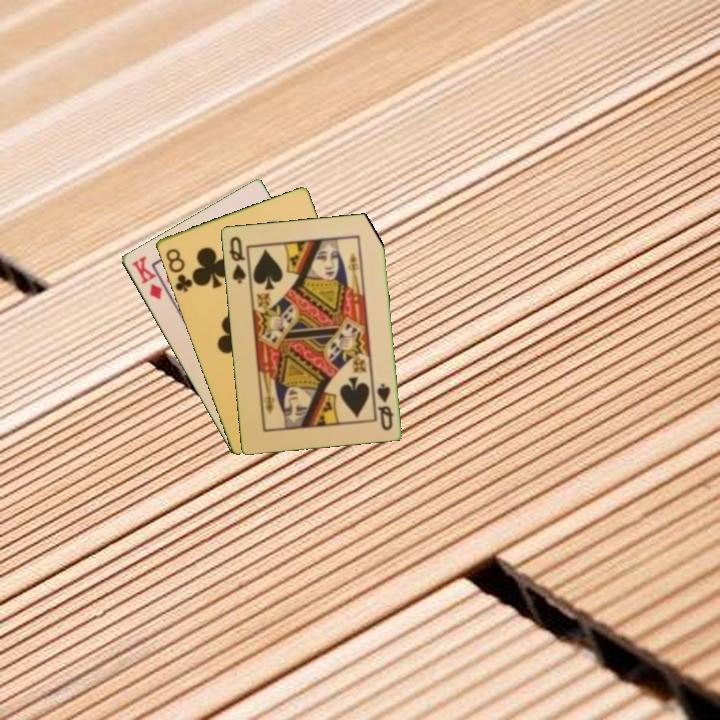8c: (162, 244, 197, 295)
Kd: (128, 253, 165, 303)
Qs: (225, 232, 248, 286), (373, 379, 396, 433)
